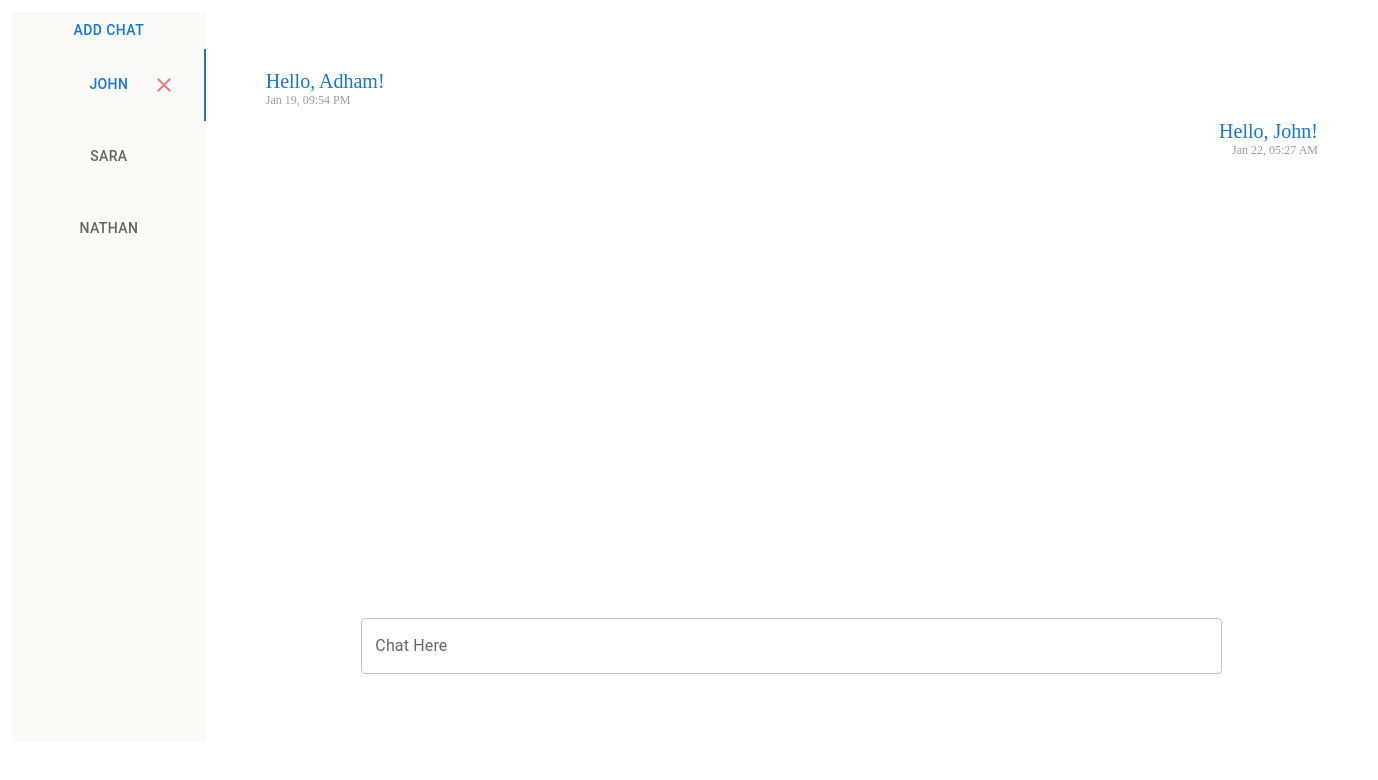
adds chat user
Click the button "Add Chat". click: (109, 30)
box: top-left (12, 12), bottom-right (206, 48)
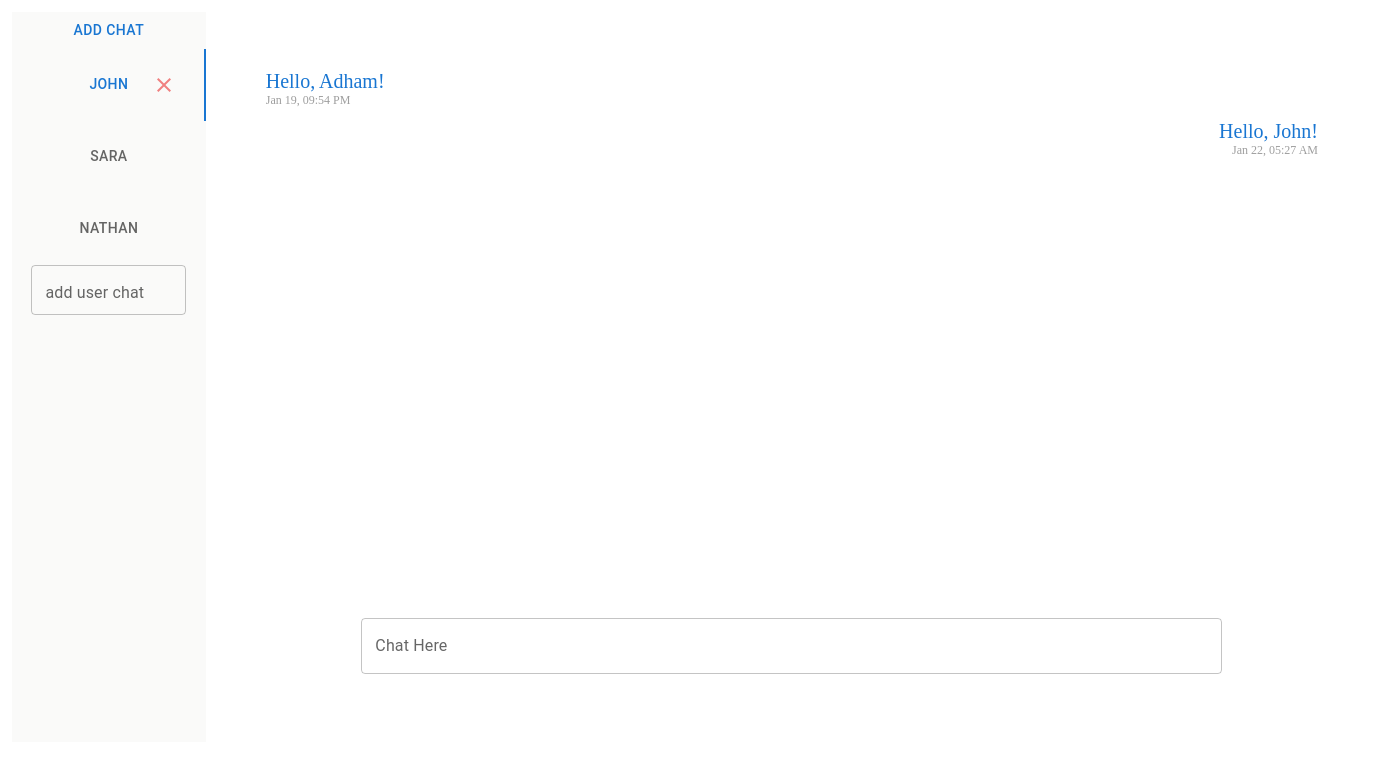
Expected: the field labelled "add user chat" is shown
Type "Clark" into the field labelled "add user chat". click: (109, 290)
box: top-left (31, 264), bottom-right (186, 315)
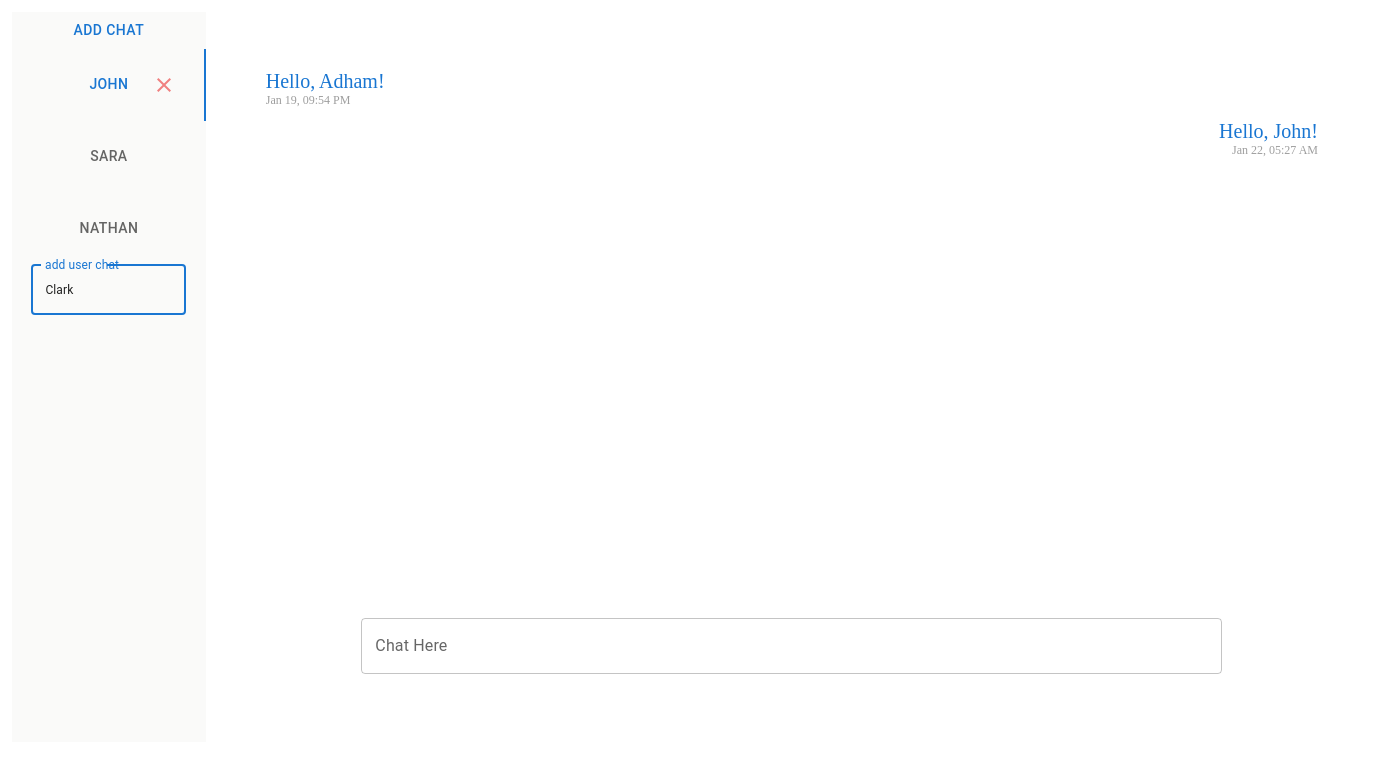
Press Enter in the field labelled "add user chat", box top-left (31, 264), bottom-right (186, 315)
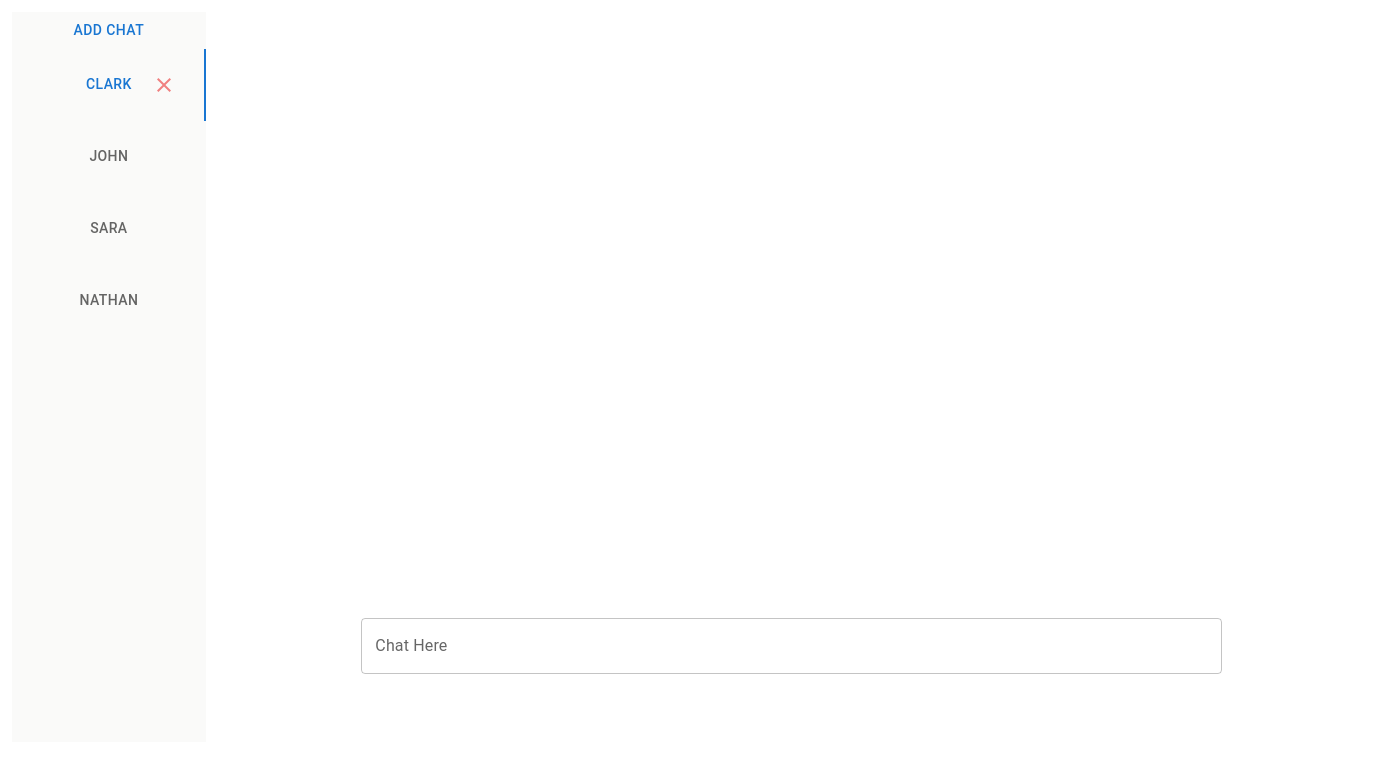
Expected: the label labelled "add user chat" is gone
Expected: the tab "Clark" is shown, top-left (12, 48), bottom-right (206, 120)
